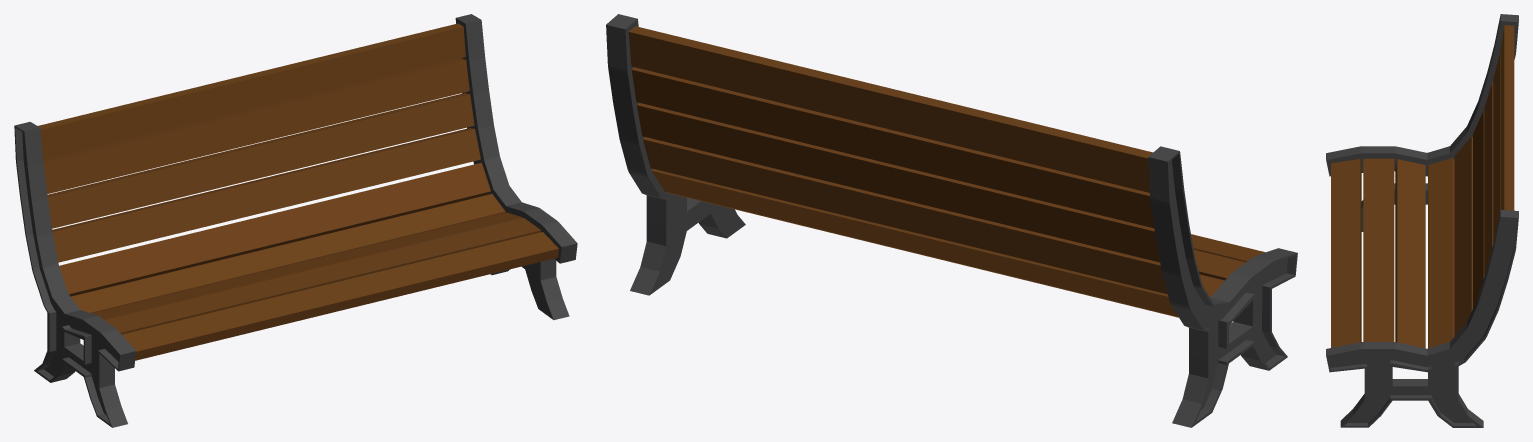
File: ParkBench.fbx
3 views of the same model, side by side, from view 1: azimuth 30°, elevation 25°; view 2: azimuth 150°, elevation 25°; view 3: azimuth 270°, elevation 25° (orthographic). The views are drawn at different scales.
Visible parts, largest first — view 1: ParkBench; view 2: ParkBench; view 3: ParkBench.
Boxes of the visible parts, left/top/right/bottom form: ParkBench: left=14, top=14, right=577, bottom=427; ParkBench: left=606, top=14, right=1297, bottom=427; ParkBench: left=1326, top=14, right=1518, bottom=427.
Bounding box in the file's own units: 151 × 73.31 × 60.64.
